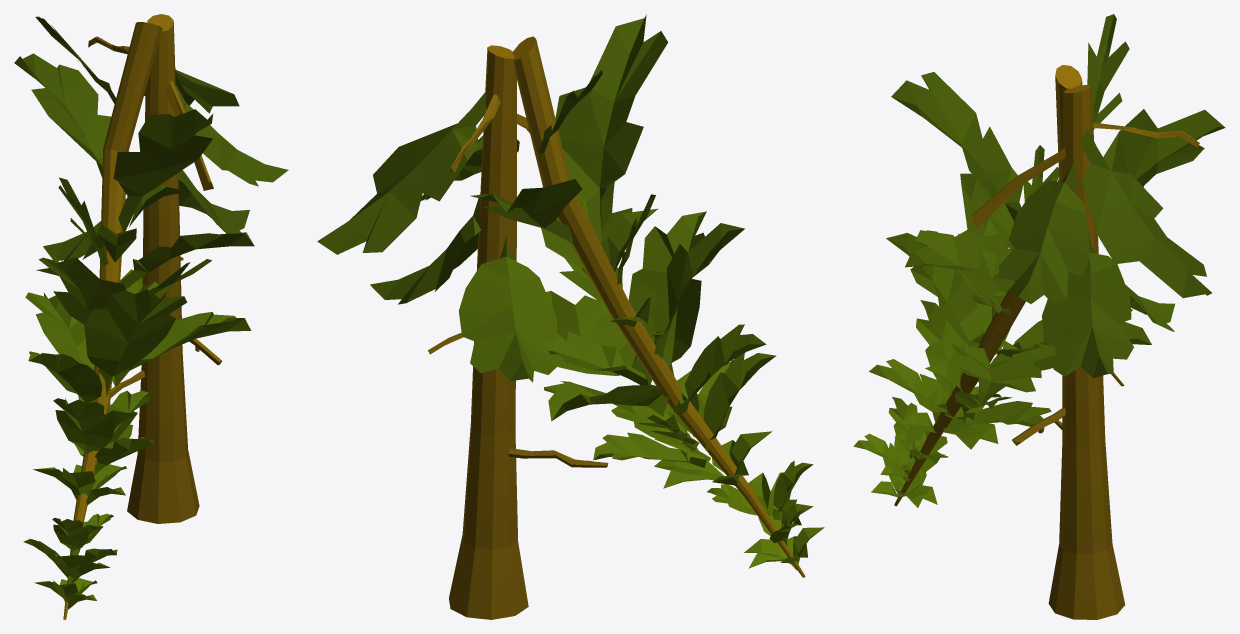
3 renders of one model, left to right at view 1: azimuth 30°, elevation 25°; view 2: azimuth 150°, elevation 25°; view 3: azimuth 270°, elevation 25°, orthographic. The views are drawn at different scales.
Parts seen in each view (by area): view 1: coniferous_trees_26; view 2: coniferous_trees_26; view 3: coniferous_trees_26.
Part boxes in pixels (x1,y1,x2,y2): coniferous_trees_26: (14, 14, 288, 619); coniferous_trees_26: (317, 14, 824, 619); coniferous_trees_26: (853, 14, 1225, 619).
Bounding box in the file's own units: 2.53 × 4.02 × 2.55.
